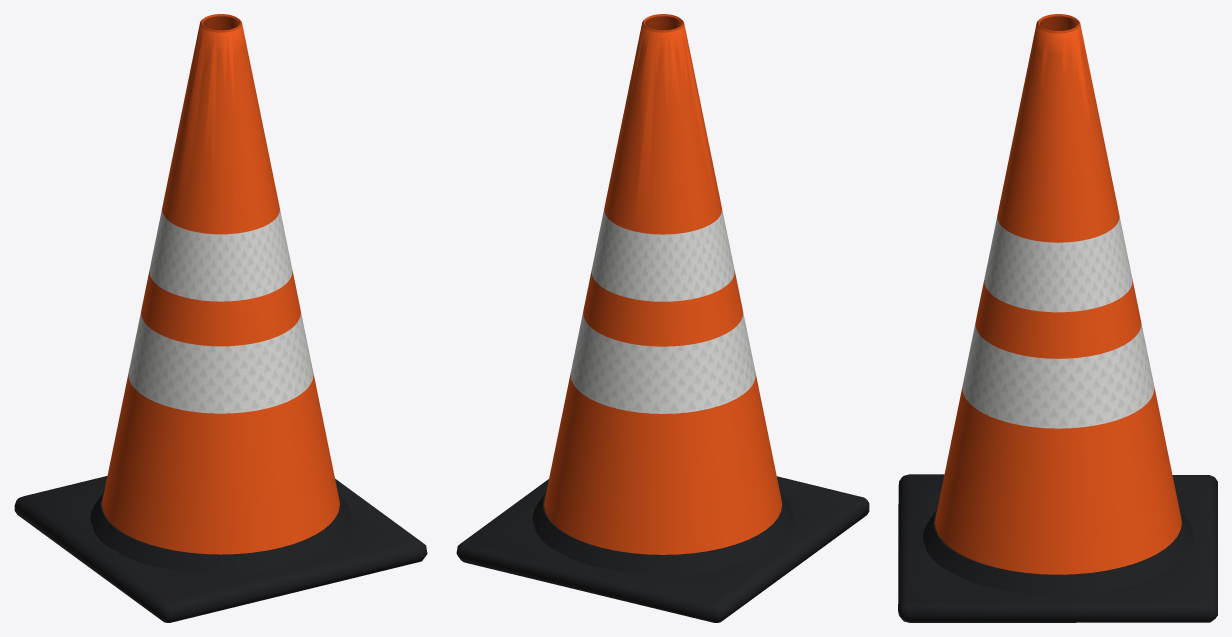
File: traffic-cone.glb
3 renders of one model, left to right at view 1: azimuth 30°, elevation 25°; view 2: azimuth 150°, elevation 25°; view 3: azimuth 270°, elevation 25°, orthographic. The views are drawn at different scales.
Visible parts, largest first — view 1: traffic-cone_body, traffic-cone_base; view 2: traffic-cone_body, traffic-cone_base; view 3: traffic-cone_body, traffic-cone_base.
Boxes of the visible parts, left/top/right/bottom form: traffic-cone_body: left=102, top=14, right=339, bottom=554; traffic-cone_base: left=14, top=476, right=427, bottom=622; traffic-cone_body: left=544, top=14, right=782, bottom=554; traffic-cone_base: left=456, top=476, right=869, bottom=622; traffic-cone_body: left=935, top=14, right=1181, bottom=574; traffic-cone_base: left=898, top=474, right=1217, bottom=622.
Size of the model in its own units: 0.379 by 0.702 by 0.379.
Materials: 4 (1 with a texture image).
